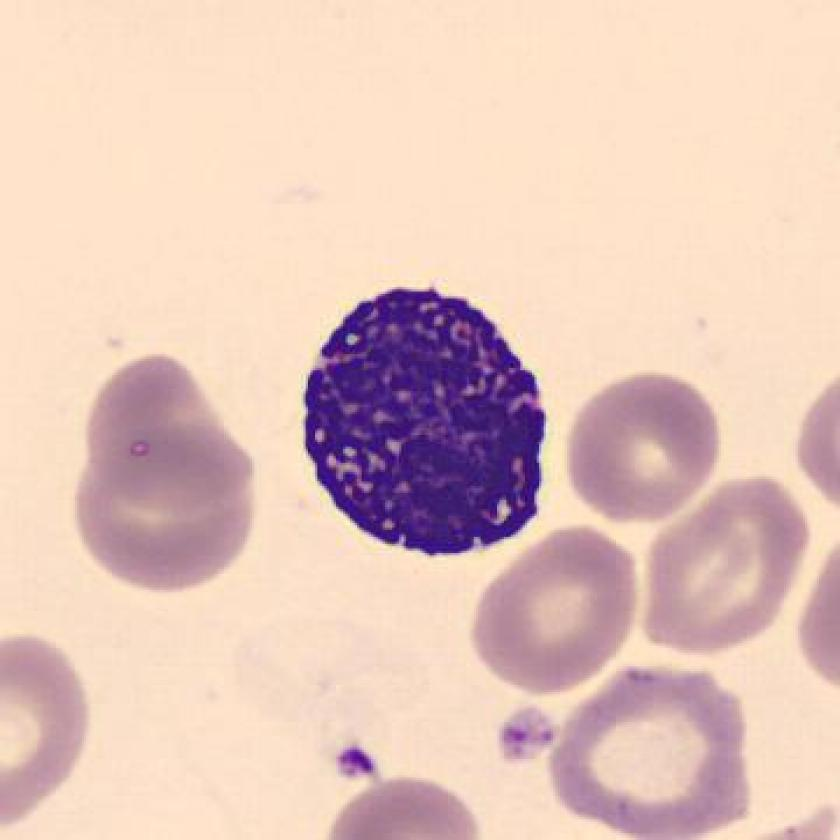basophil: (297, 276, 554, 566)
